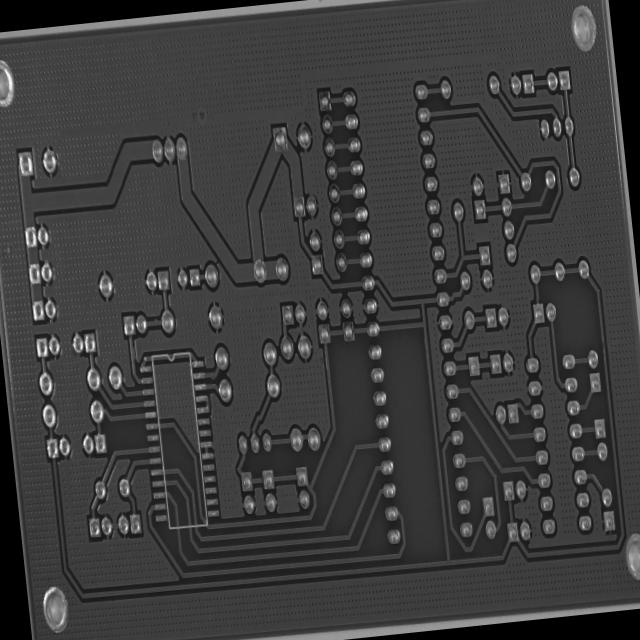spur: (126, 342, 136, 361), (207, 368, 218, 384), (150, 315, 162, 328)
